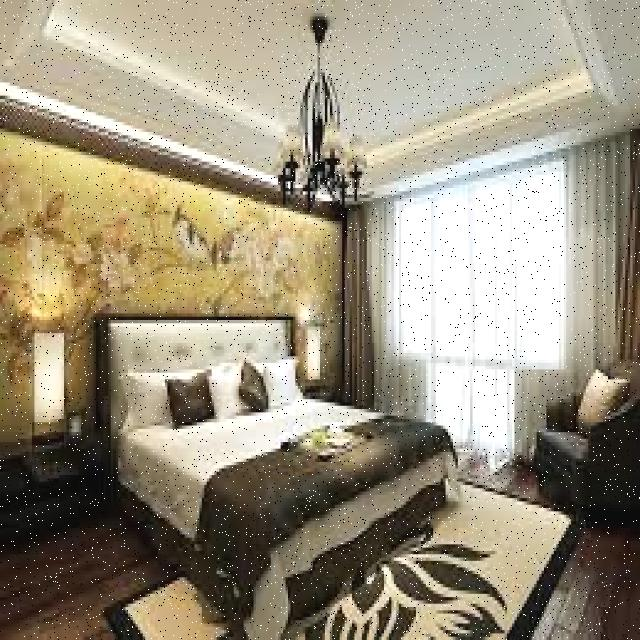bed: (110, 313, 434, 581)
